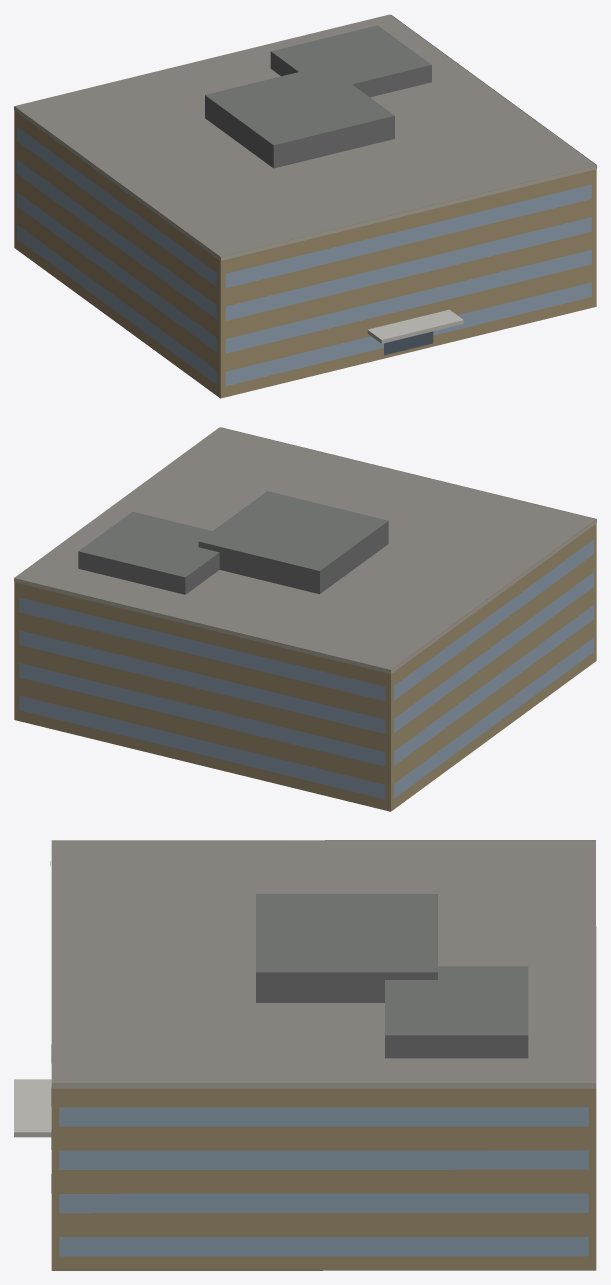
Rendered from national-investors-life-building.glb.
3 renders of one model, top to bottom at view 1: azimuth 30°, elevation 25°; view 2: azimuth 150°, elevation 25°; view 3: azimuth 270°, elevation 25°, orthographic. The views are drawn at different scales.
Parts seen in each view (by area): view 1: national_investors_life_building; view 2: national_investors_life_building; view 3: national_investors_life_building.
Part boxes in pixels (box(x1,y1,x2,y2)): national_investors_life_building: box(14, 14, 596, 398); national_investors_life_building: box(14, 427, 596, 811); national_investors_life_building: box(14, 840, 596, 1270).
Size of the model in its own units: 45.97 by 19.2 by 46.49.
